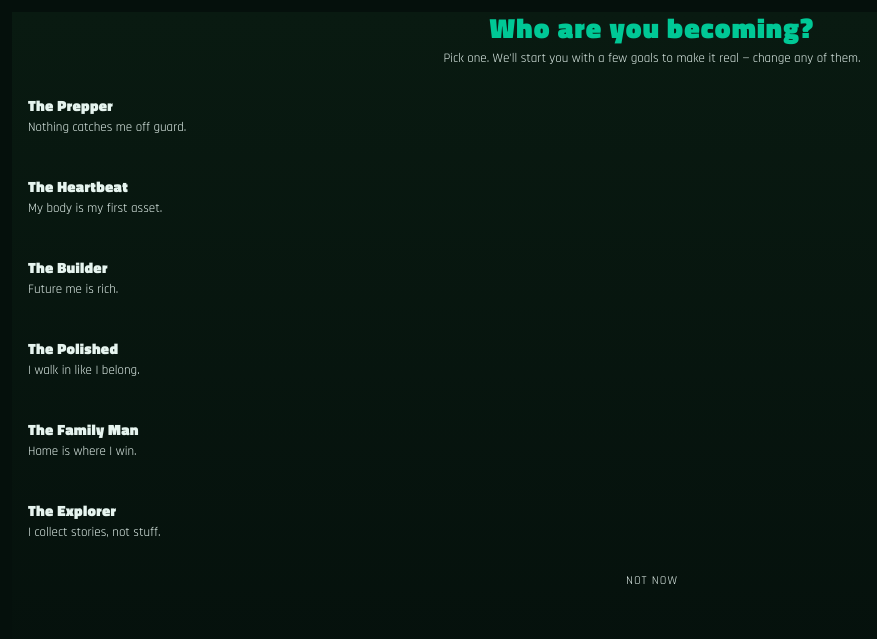
Scenario: ArchetypePicker › flags a goal whose date is more than a year out as stretch
The width and height of the screenshot is (877, 639).
Click the text "The Builder" at (68, 268), box [28,256,108,279]
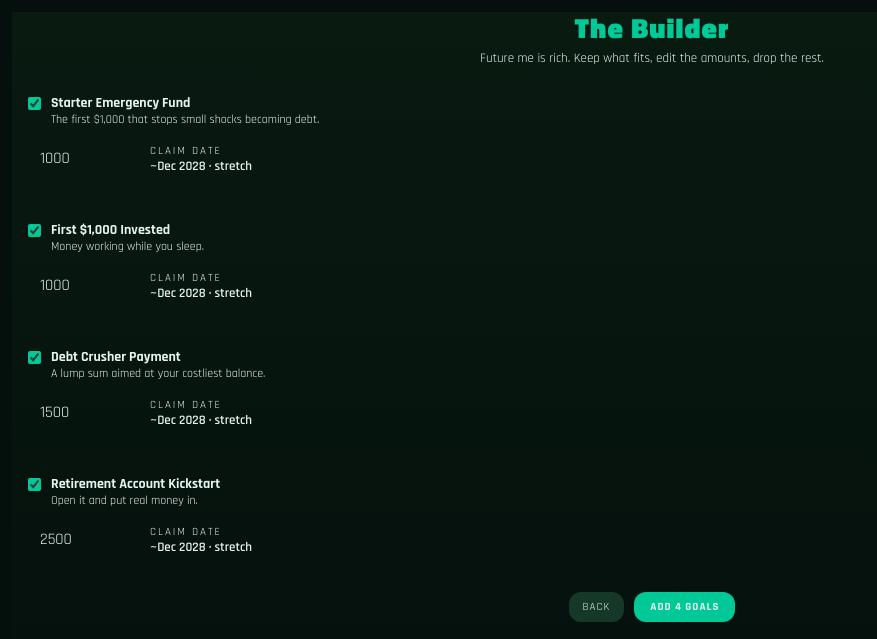
Now the text "~Dec 2028 · stretch" below "Starter Emergency Fund" is shown, box [206,158,252,174]
